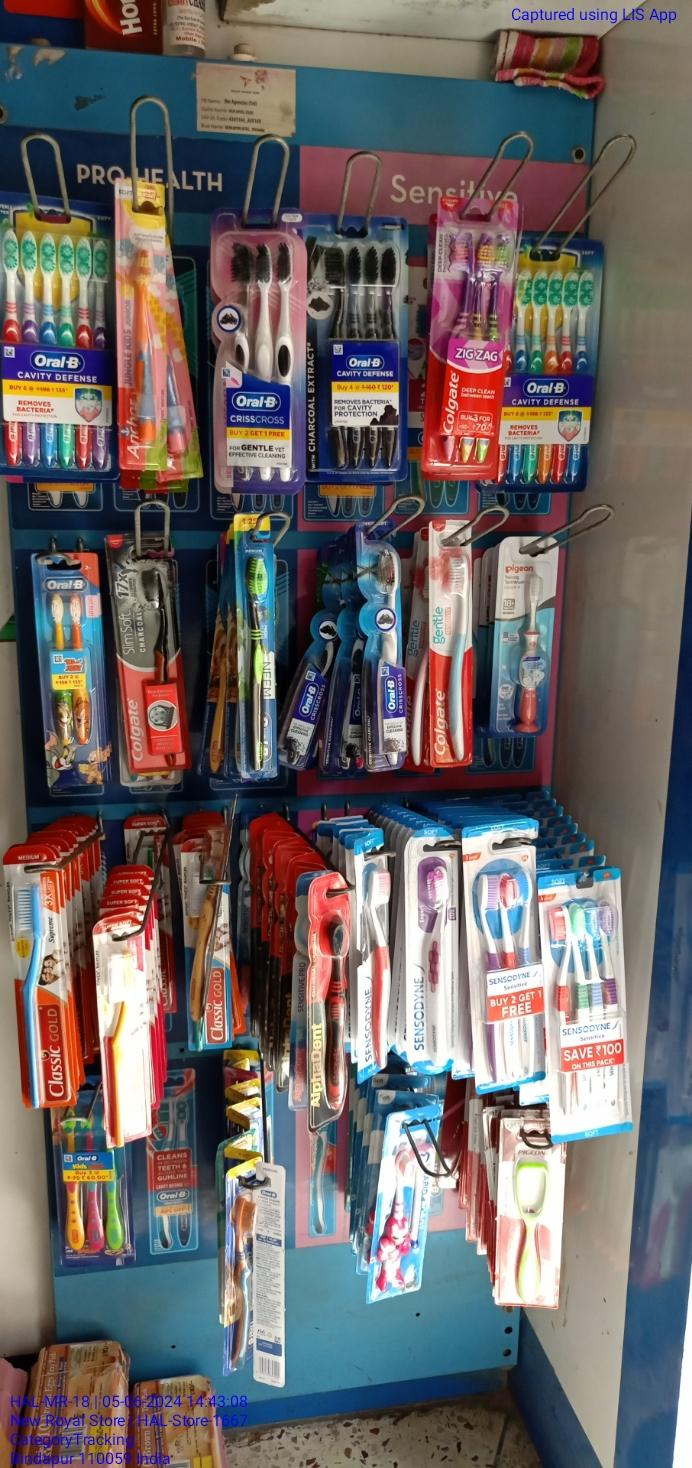14: (545, 874, 632, 1141)
15: (470, 826, 540, 1091)
soap: (111, 532, 187, 773)
